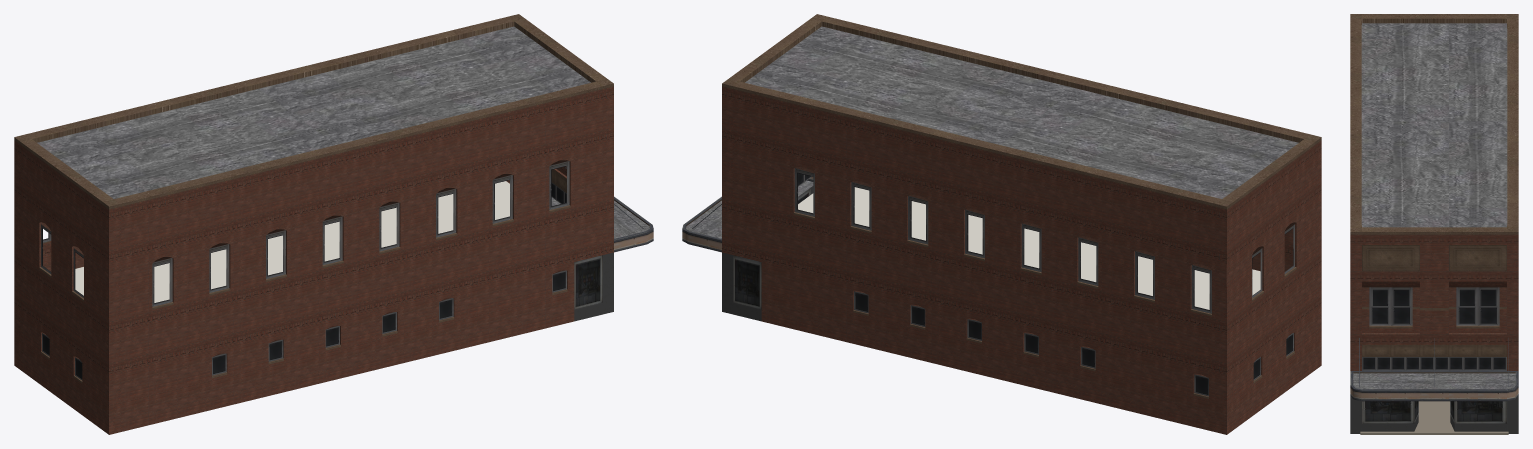
The model's file is brick-shop.windows-v1.lod0.glb.
3 views of the same model, side by side, from view 1: azimuth 30°, elevation 25°; view 2: azimuth 150°, elevation 25°; view 3: azimuth 270°, elevation 25° (orthographic). The views are drawn at different scales.
Visible parts, largest first — view 1: Object_4, Walkable floors and stairs; view 2: Object_4, Walkable floors and stairs; view 3: Object_4, Walkable floors and stairs.
Part boxes in pixels (x1,y1,x2,y2): Object_4: (14,14,653,434); Walkable floors and stairs: (75,181,509,302); Object_4: (682,14,1321,434); Walkable floors and stairs: (798,187,1260,309); Object_4: (1350,14,1518,433); Walkable floors and stairs: (1360,401,1508,434).
Size of what is drawn, in the model's own units: 24.23 by 9.61 by 7.24.
3 materials, 1 textured.
